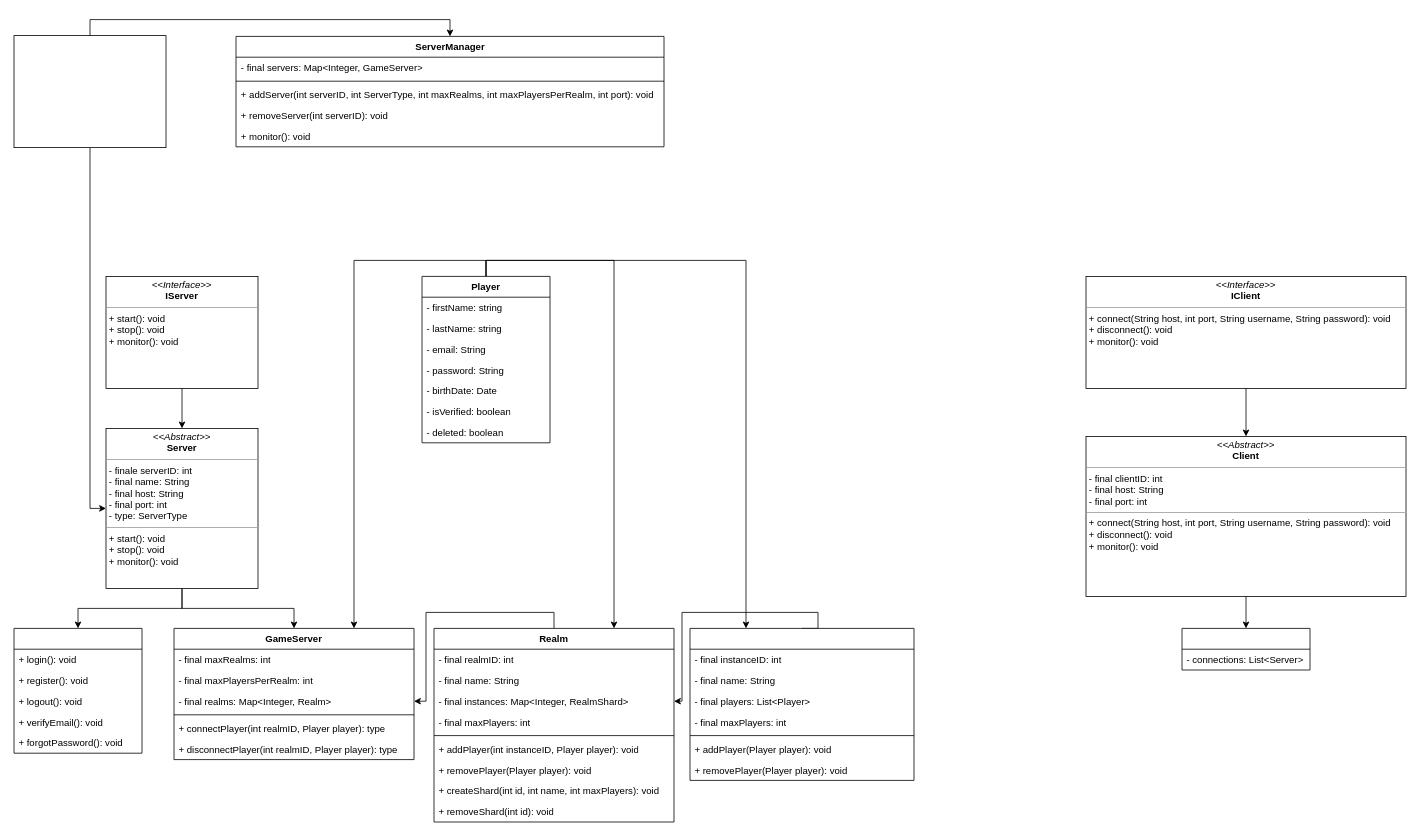
This 1420x838 diagram has some shape labels left out. Here are the shapes that lost their labels. From the top down, the box of each, then its label:
(13, 35, 166, 148): <<Enum>> ServerType + AUTH + GAME + CHAT
(1181, 628, 1310, 670): GameClient
(13, 628, 142, 753): AuthServer
(689, 628, 914, 780): RealmShard
